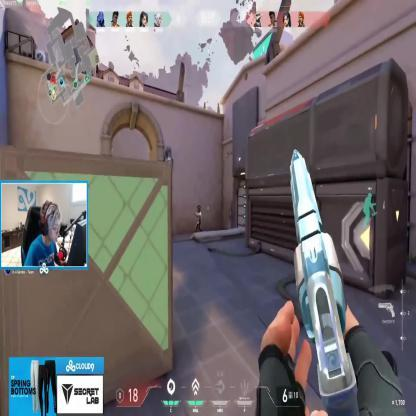enemy: (193, 204, 202, 234)
enemy_head: (198, 206, 200, 213)
